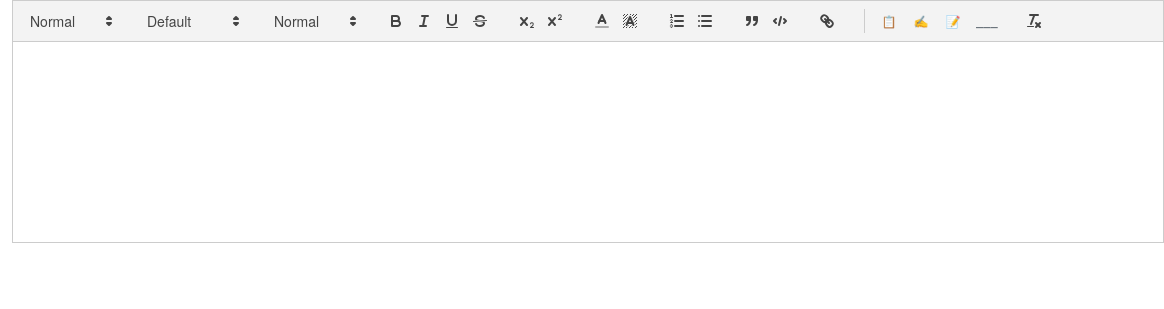
Test: QuillEditor TDD - RED Phase (Expecting Failures) › 🔴 Placeholder Insertion Failures › should validate placeholder data before insertion
The image size is (1164, 309).
Try to insert invalid placeholder data
Click the button with test id "insert-signature-field" at (921, 21), box [907,9,935,33]
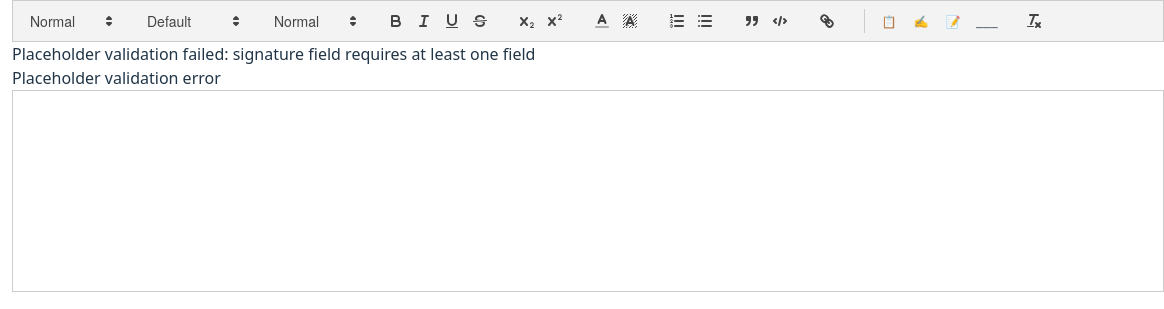
Now the text "Placeholder validation error" is shown, box [12,67,221,89]
